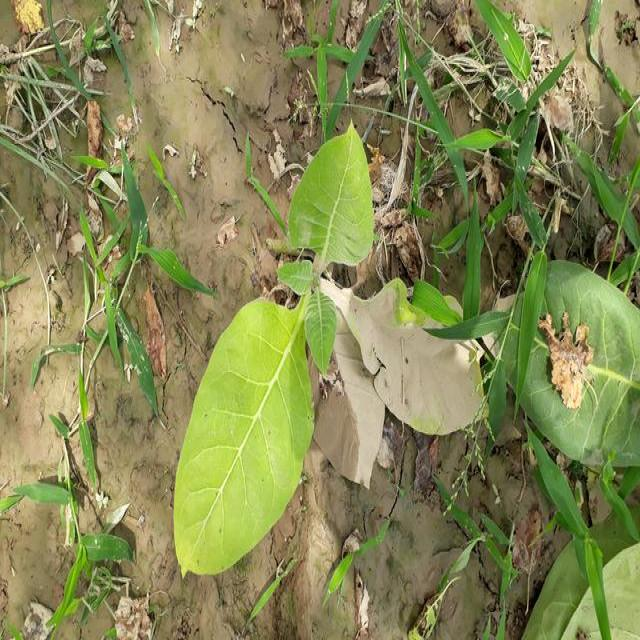crop: (178, 128, 484, 578), (519, 248, 640, 473), (530, 532, 640, 640)
